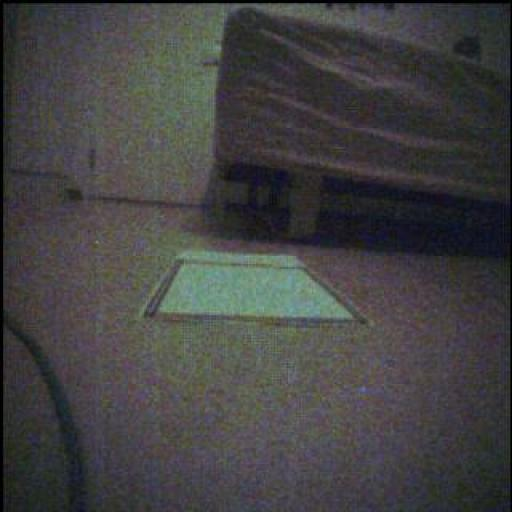pad: (145, 252, 366, 326)
